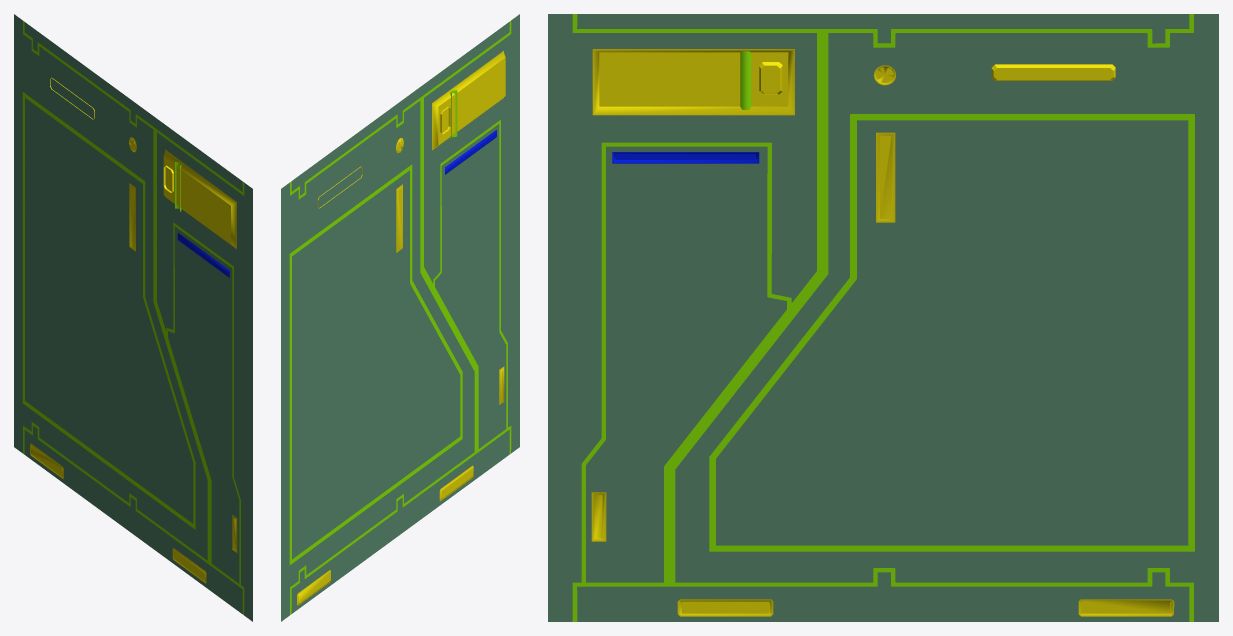
File: Building_Wall_02j_snaps016.fbx
The picture shows the model from 3 angles, left to right: view 1: azimuth 30°, elevation 25°; view 2: azimuth 150°, elevation 25°; view 3: azimuth 270°, elevation 25°; orthographic projection. The views are drawn at different scales.
Visible parts, largest first — view 1: Building_Wall_02j_snaps016_LOD0; view 2: Building_Wall_02j_snaps016_LOD0; view 3: Building_Wall_02j_snaps016_LOD0.
Part boxes in pixels (box(x1,y1,x2,y2)): Building_Wall_02j_snaps016_LOD0: box(14, 14, 252, 621); Building_Wall_02j_snaps016_LOD0: box(281, 14, 519, 621); Building_Wall_02j_snaps016_LOD0: box(548, 14, 1218, 621).
Size of what is drawn, in the model's own units: 0.1163 by 6 by 6.
